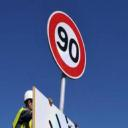speed_limit_90: (46, 10, 87, 80)
